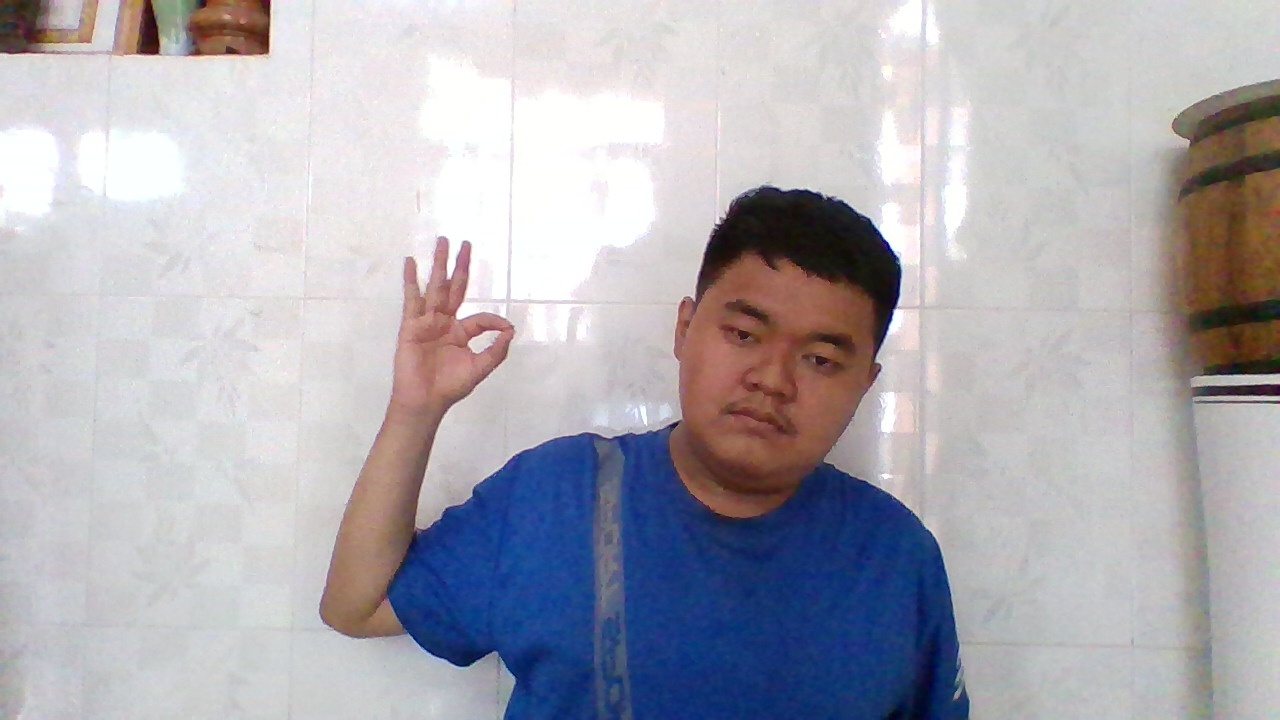T: (391, 226, 524, 421)
